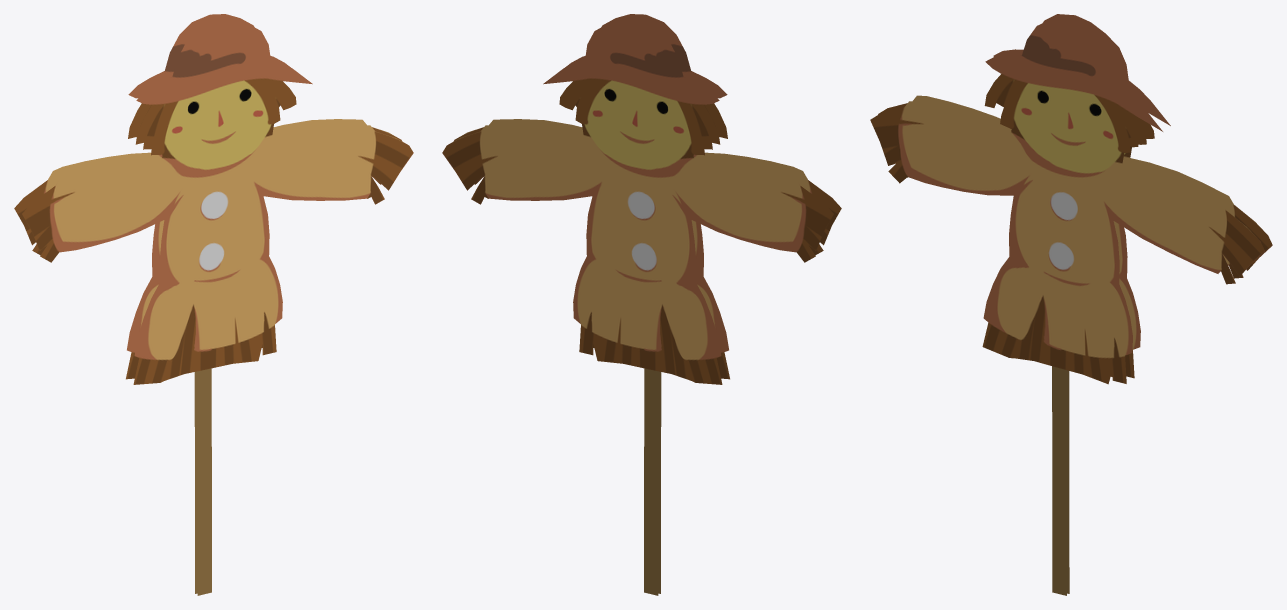
Rendered from kakashi.fbx.
3 views of the same model, side by side, from view 1: azimuth 30°, elevation 25°; view 2: azimuth 150°, elevation 25°; view 3: azimuth 330°, elevation 25° (orthographic).
Parts seen in each view (by area): view 1: grid24, grid, polymsh_detached1, polymsh_detached; view 2: grid, grid24, polymsh_detached, polymsh_detached1; view 3: grid24, grid, polymsh_detached1, polymsh_detached.
Part boxes in pixels (x1,y1,x2,y2): grid24: (22, 19, 413, 384); grid: (14, 14, 402, 379); polymsh_detached1: (197, 368, 211, 595); polymsh_detached: (194, 371, 197, 593); grid: (442, 19, 833, 384); grid24: (453, 14, 841, 379); polymsh_detached: (644, 368, 658, 595); polymsh_detached1: (658, 371, 661, 593); grid24: (870, 19, 1264, 384); grid: (878, 14, 1272, 378); polymsh_detached1: (1052, 366, 1066, 595); polymsh_detached: (1066, 370, 1069, 593).
Bounding box in the file's own units: 175 × 245 × 6.
